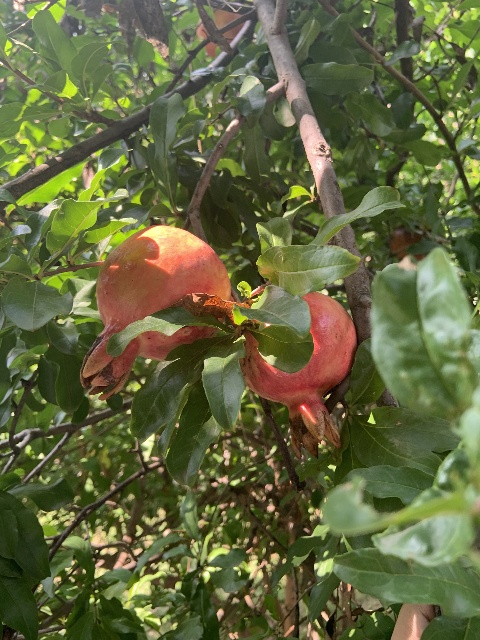ripe: (79, 224, 230, 400), (238, 292, 357, 458)
